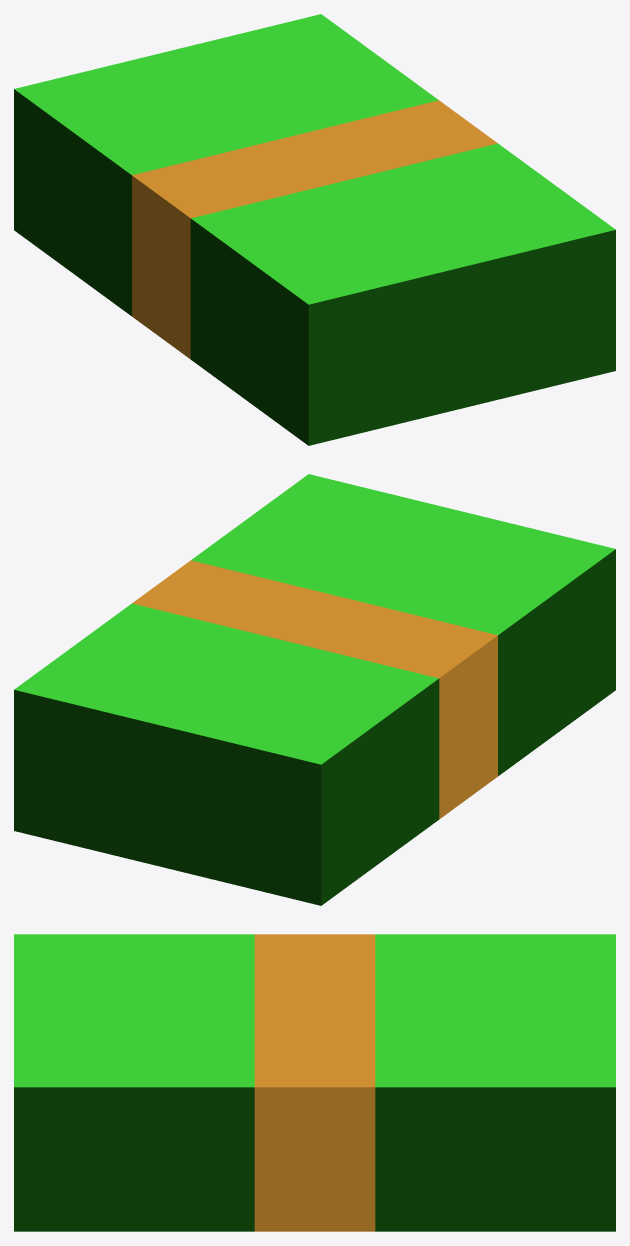
Rendered from Money.fbx.
3 renders of one model, top to bottom at view 1: azimuth 30°, elevation 25°; view 2: azimuth 150°, elevation 25°; view 3: azimuth 270°, elevation 25°, orthographic. The views are drawn at different scales.
Visible parts, largest first — view 1: Cube; view 2: Cube; view 3: Cube.
Boxes of the visible parts, x1,y1,x2,y2 form: Cube: (14, 14, 615, 445); Cube: (14, 474, 615, 905); Cube: (14, 934, 615, 1231).
Bounding box in the file's own units: 110 × 48.2 × 182.
